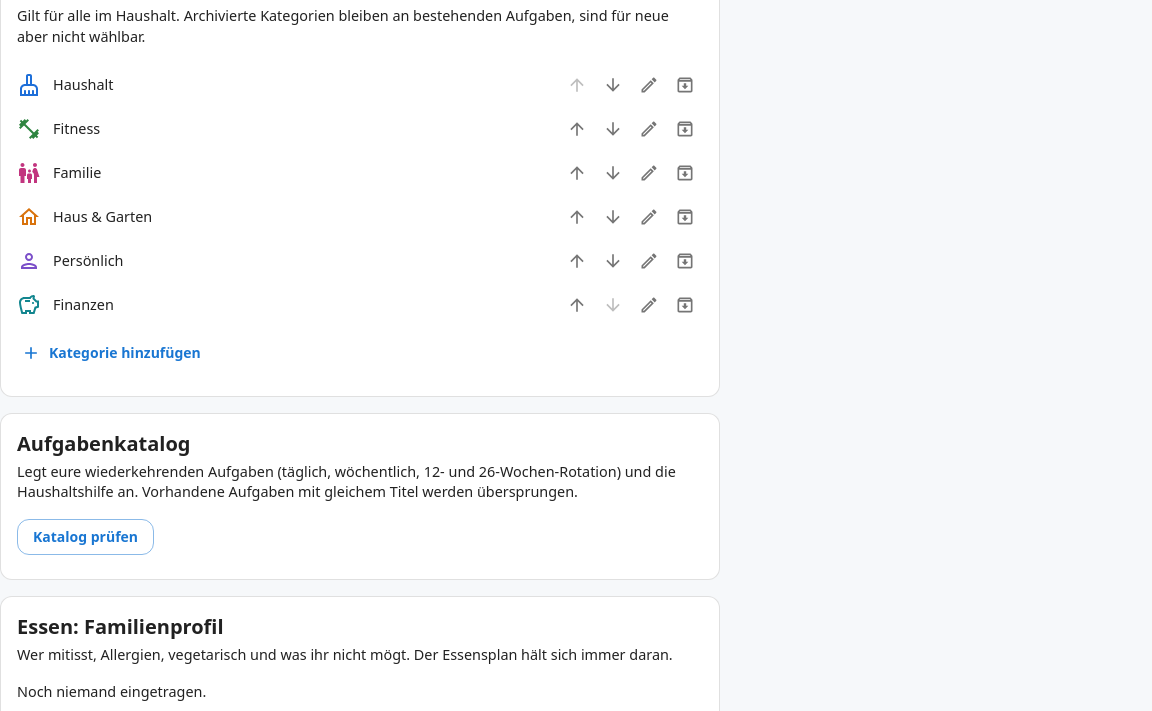
categories settings › adds a category with icon and color
The image size is (1152, 711).
(page scrolled)
Click the button "Kategorie hinzufügen": (113, 353) [17,335,209,372]
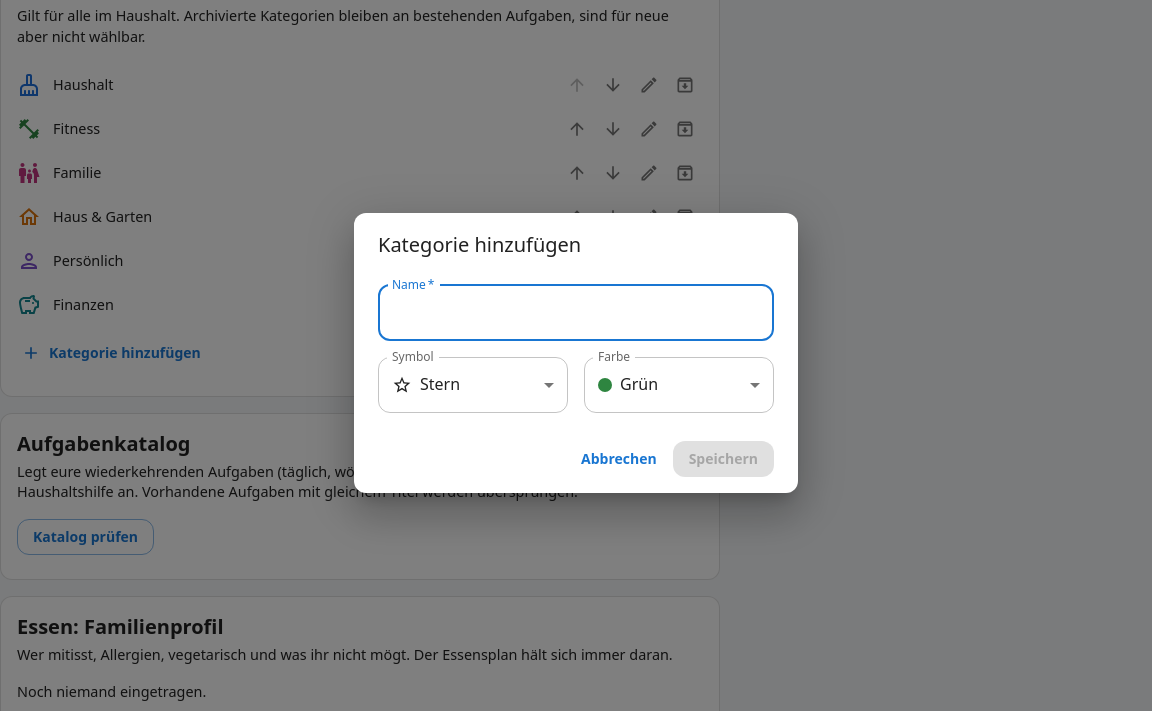
In the field labelled "Name": (576, 313) [378,285,774,341], type "Garten"
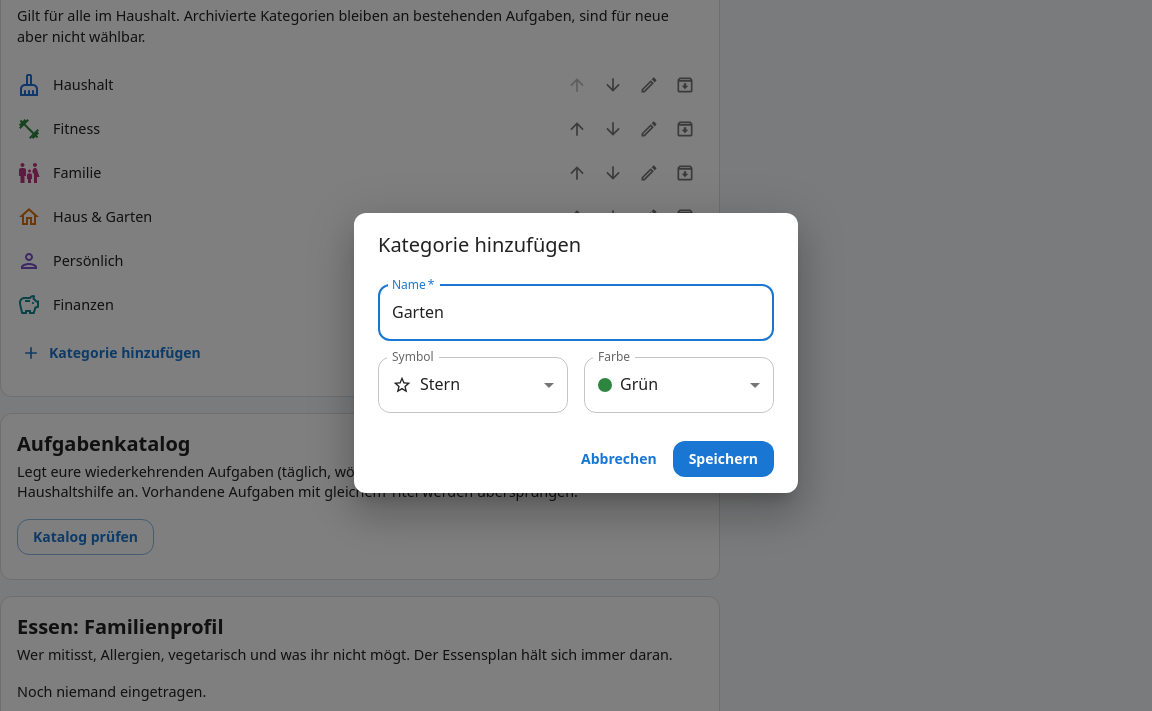
Click the dropdown named "Symbol": (426, 384) [392,373,460,395]
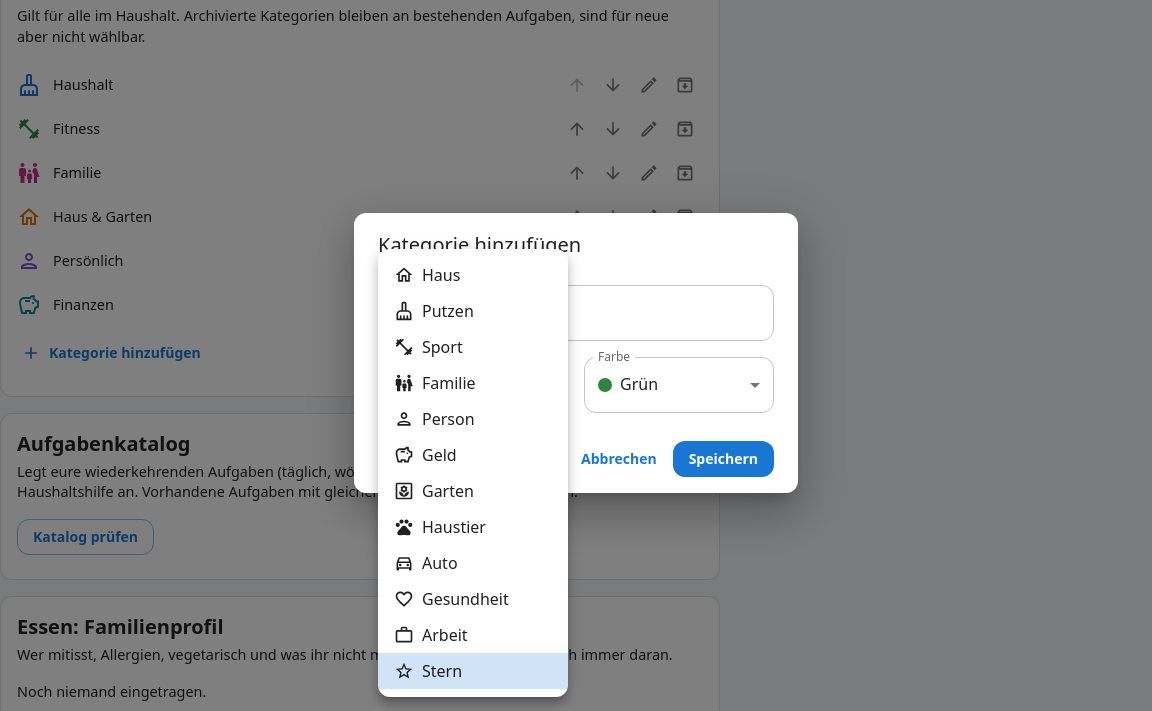
Click the option "Garten": (434, 491) [394,480,474,502]
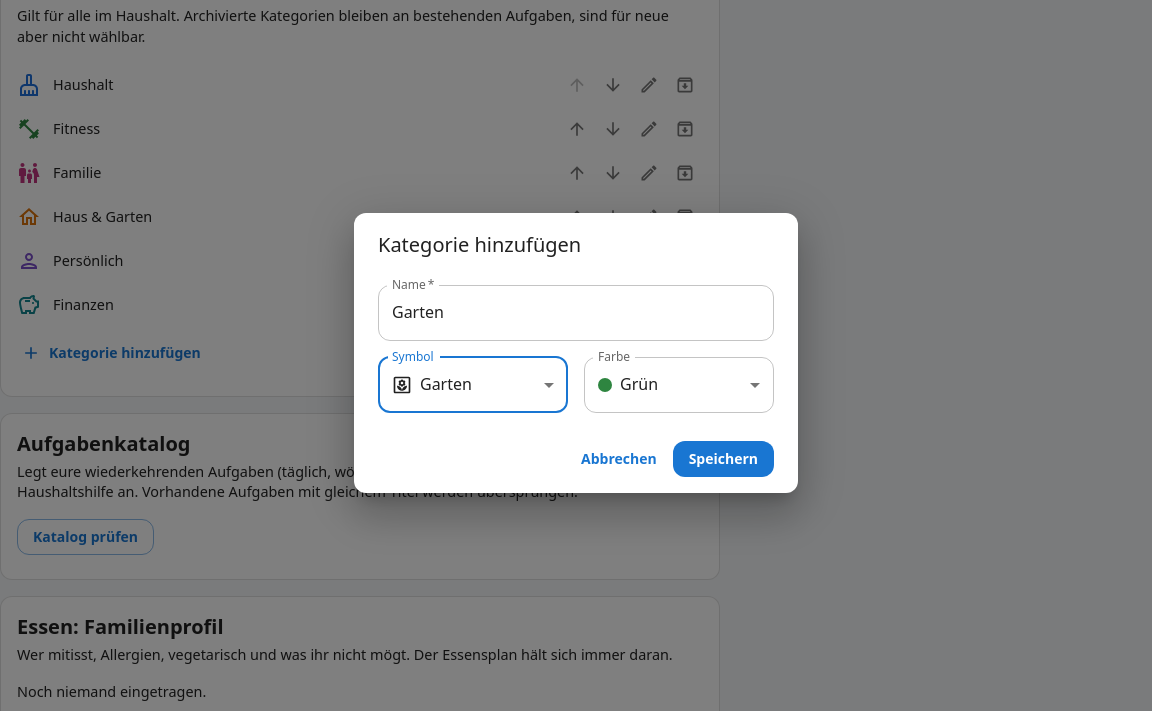
Click the button "Speichern": (723, 459) [673,441,774,477]
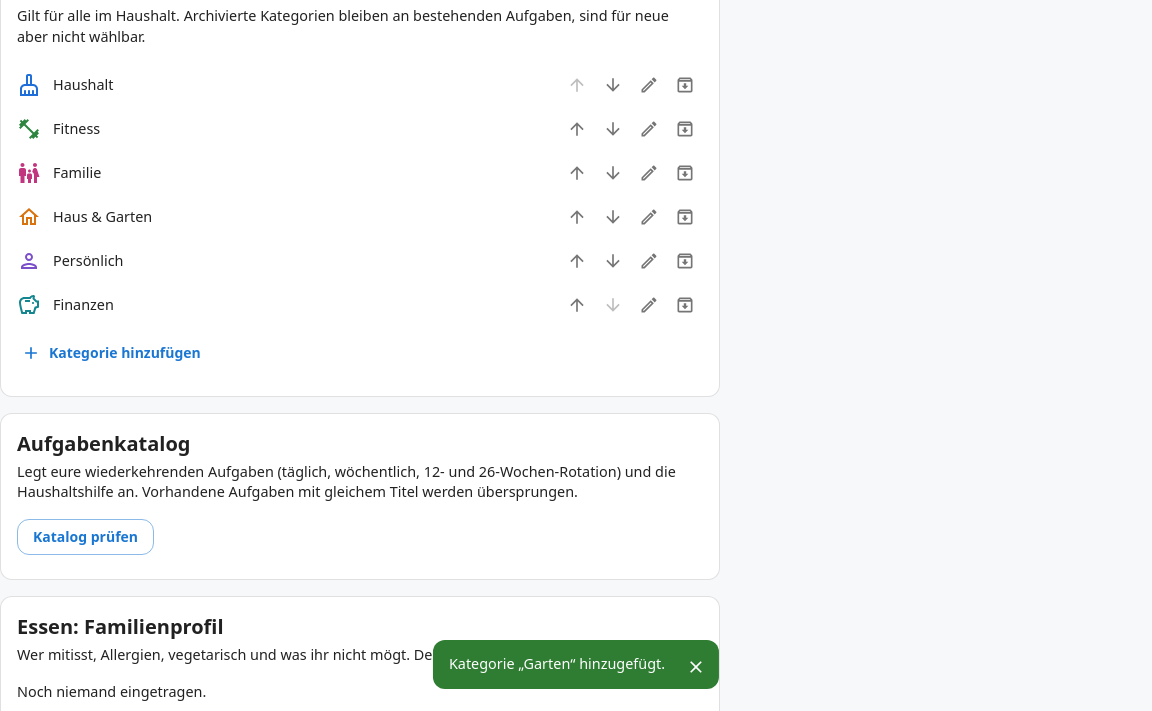
Check: the text "Kategorie „Garten“ hinzugefügt." is shown, box [449,654,665,673]
